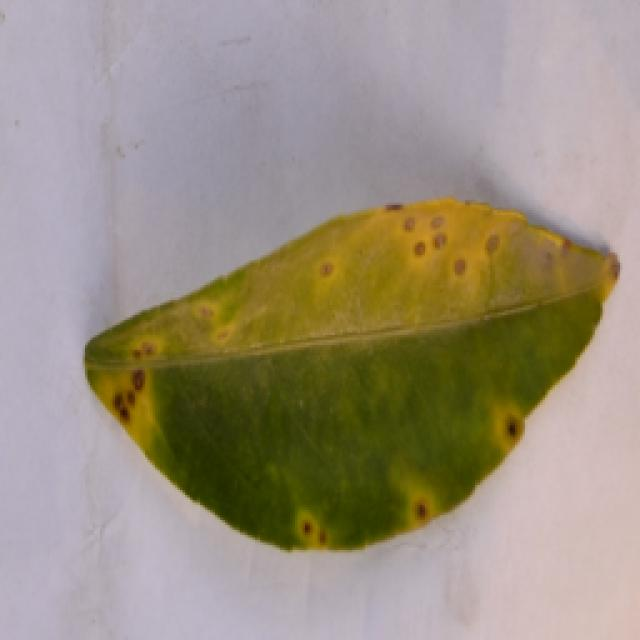canker: (90, 204, 609, 562)
